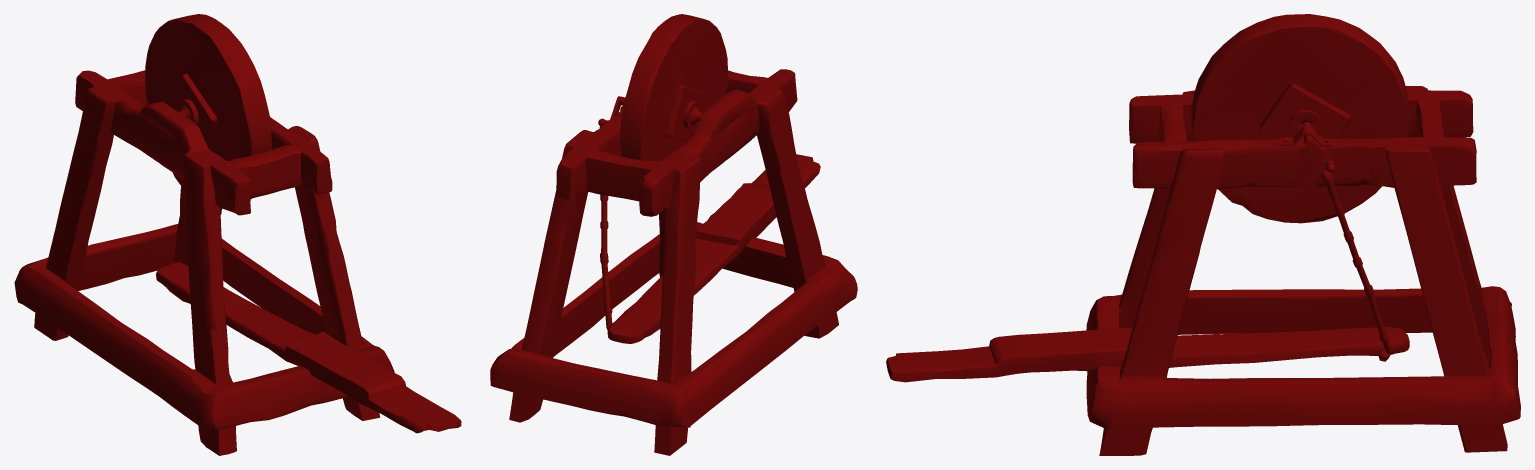
File: MOD_Stonegrinder.fbx
The picture shows the model from 3 angles, left to right: view 1: azimuth 30°, elevation 25°; view 2: azimuth 150°, elevation 25°; view 3: azimuth 270°, elevation 25°; orthographic projection. The views are drawn at different scales.
Visible parts, largest first — view 1: MOD_Stonegrinder; view 2: MOD_Stonegrinder; view 3: MOD_Stonegrinder.
Boxes of the visible parts, x1,y1,x2,y2 form: MOD_Stonegrinder: (14, 14, 461, 455); MOD_Stonegrinder: (490, 14, 857, 455); MOD_Stonegrinder: (886, 14, 1520, 455).
Bounding box in the file's own units: 60.96 × 102 × 149.
